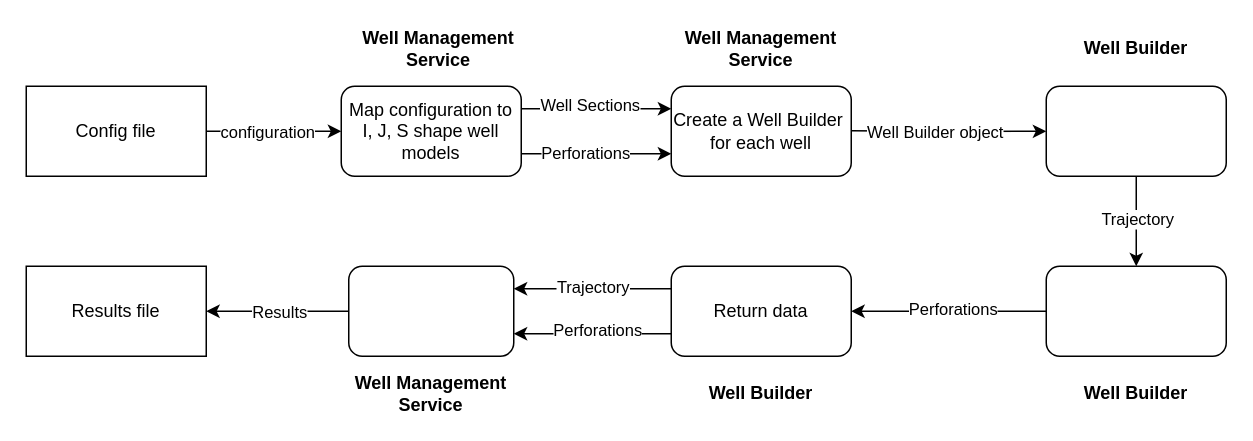
Image size: 1253x441. Some labels were removed from this diagram. The shapes that lost their labels are listed below. From the top down, each one's centre as x and y in pixels, then its label:
At pixel 1135 130: "Create well trajectory by discretizing the sections".
At pixel 430 310: "Prepare results file".
At pixel 1135 310: "Find perforated points within the trajectory".
